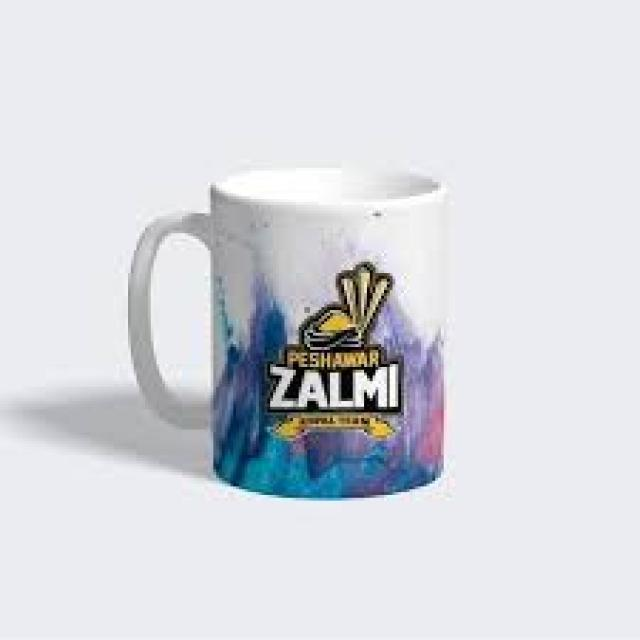taza: (108, 137, 459, 508)
